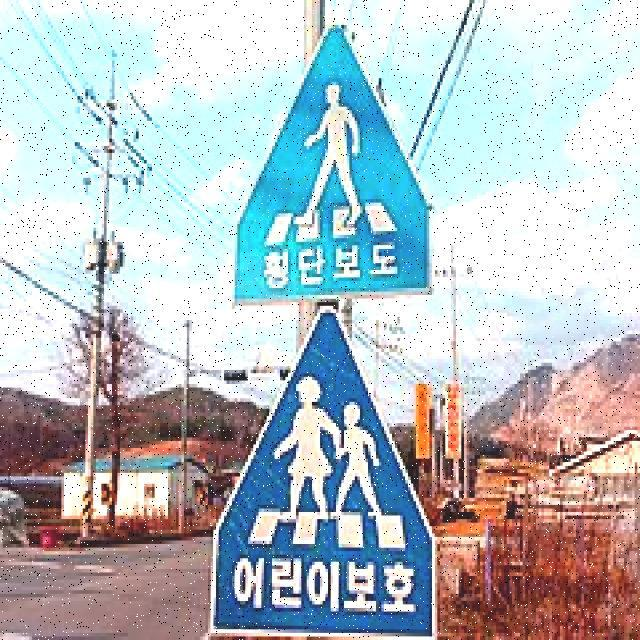Traffic sign: (205, 23, 439, 640)
